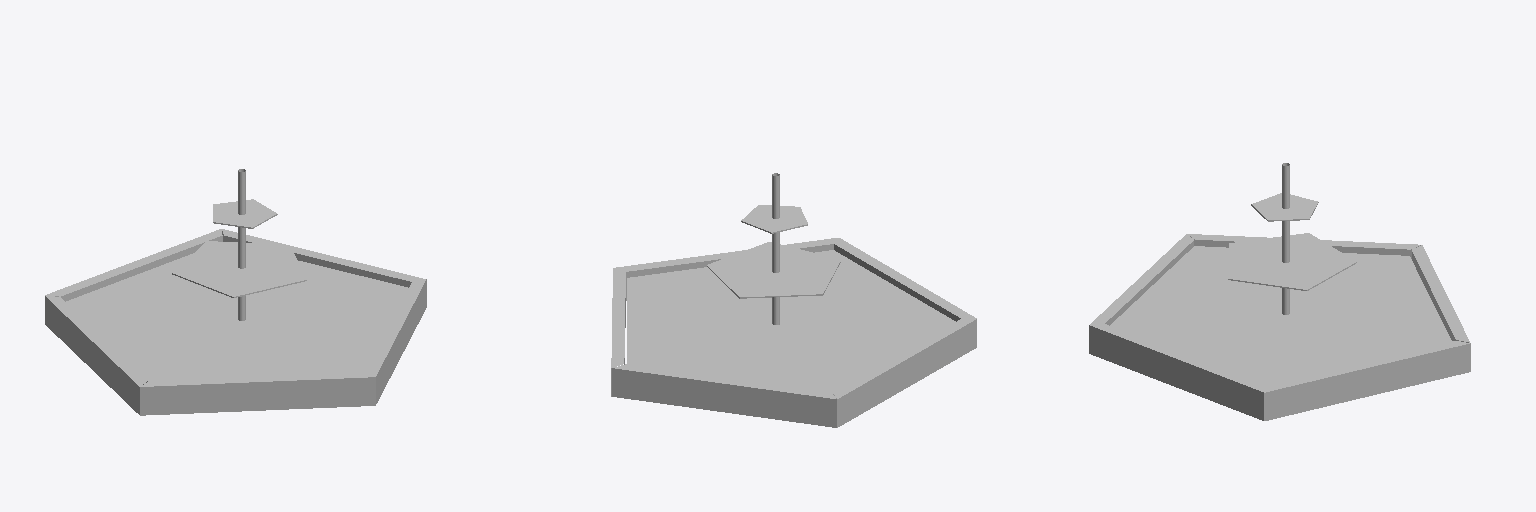
Rendered from fountain.obj.
3 views of the same model, side by side, from view 1: azimuth 30°, elevation 25°; view 2: azimuth 150°, elevation 25°; view 3: azimuth 270°, elevation 25° (orthographic).
Visible parts, largest first — view 1: Plane; view 2: Plane; view 3: Plane.
Part boxes in pixels (x1,y1,x2,y2): Plane: (45, 169, 426, 415); Plane: (611, 173, 976, 427); Plane: (1089, 163, 1470, 420).
Size of the model in its own units: 2.64 by 1.33 by 2.68.